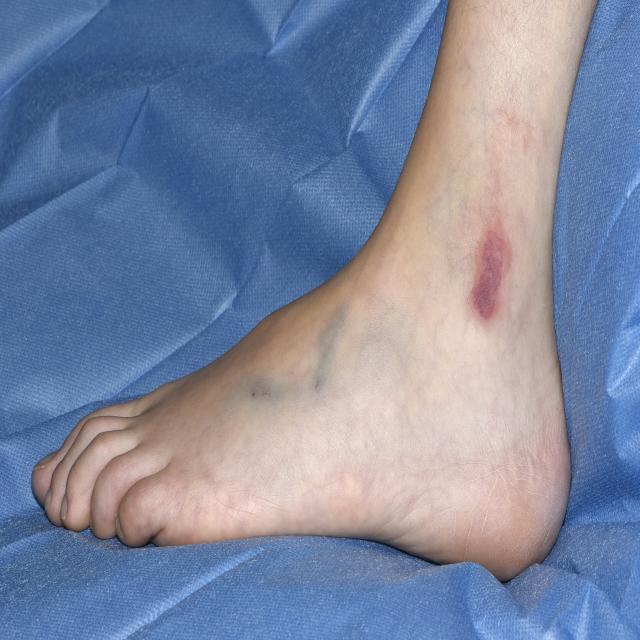wound: (467, 214, 512, 324)
